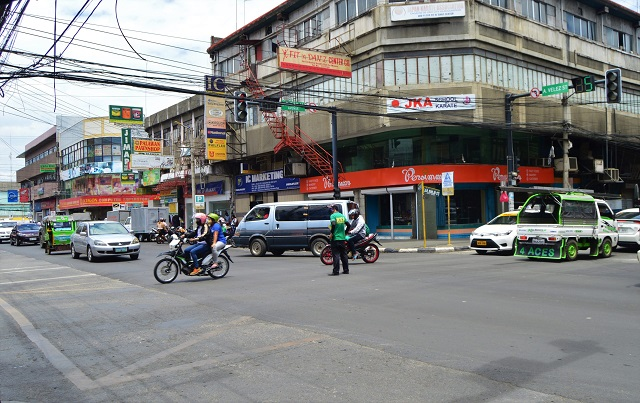bike: (153, 234, 229, 284), (324, 236, 382, 264)
car: (523, 195, 617, 260), (238, 202, 330, 254), (70, 220, 138, 260), (470, 211, 517, 252), (10, 221, 38, 245)
person: (184, 211, 210, 275), (328, 204, 350, 275), (208, 212, 226, 267), (348, 209, 367, 247)
pole: (330, 106, 339, 190), (504, 94, 512, 177)
traffic light: (604, 66, 623, 104), (233, 89, 248, 123), (572, 74, 596, 94), (259, 94, 279, 113)
